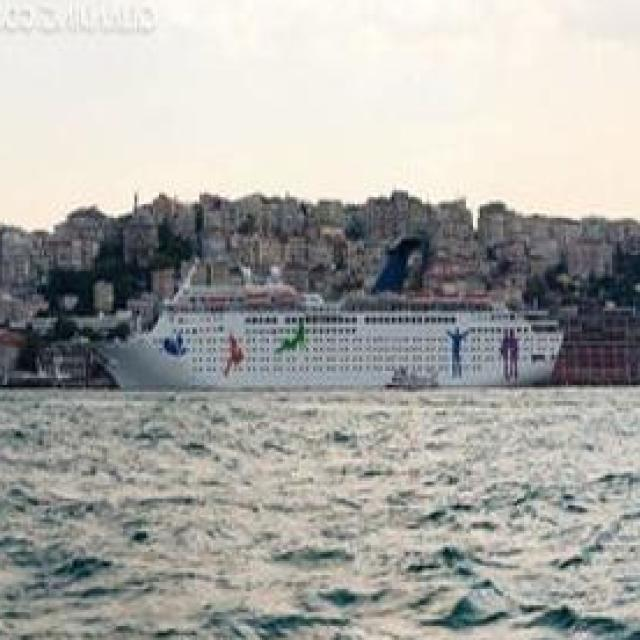passenger ship: (105, 258, 591, 413)
